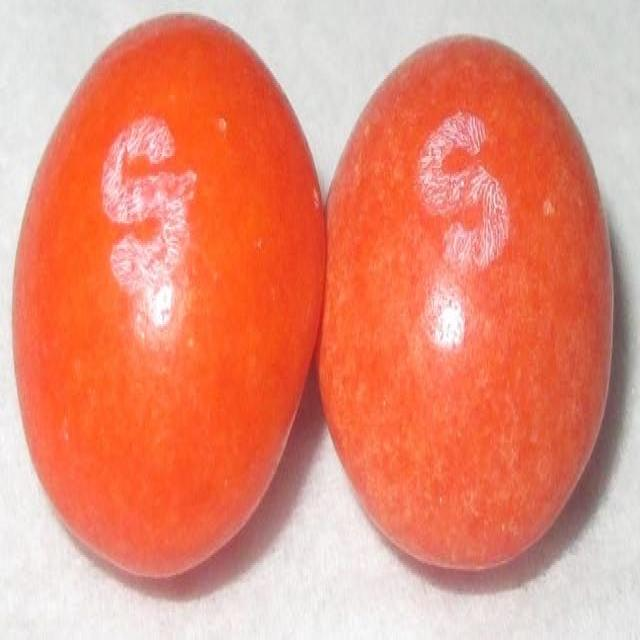smartie: (13, 14, 326, 576), (319, 38, 612, 568)
